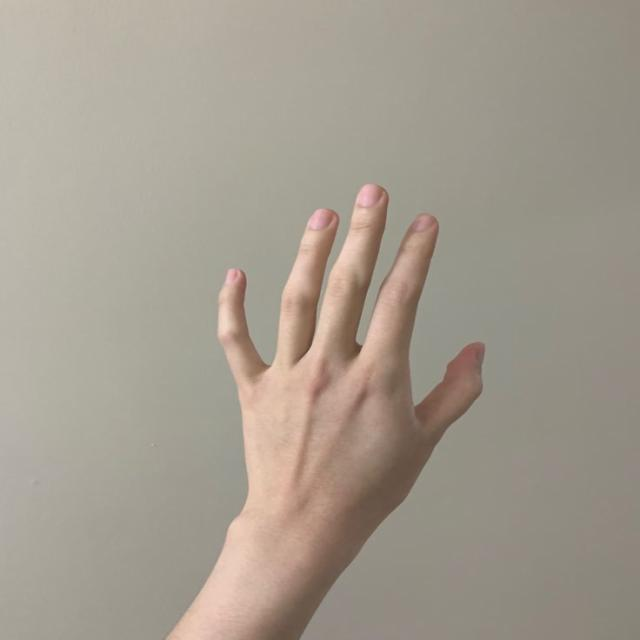bare_hand: (219, 183, 486, 560)
